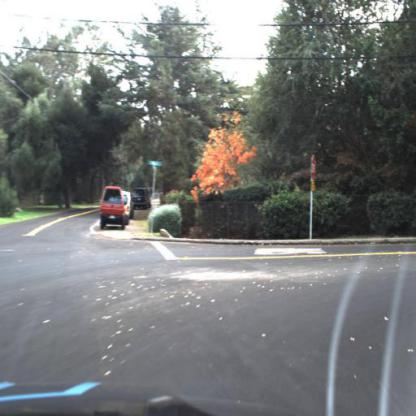car: (100, 186, 127, 230), (130, 185, 151, 212)
